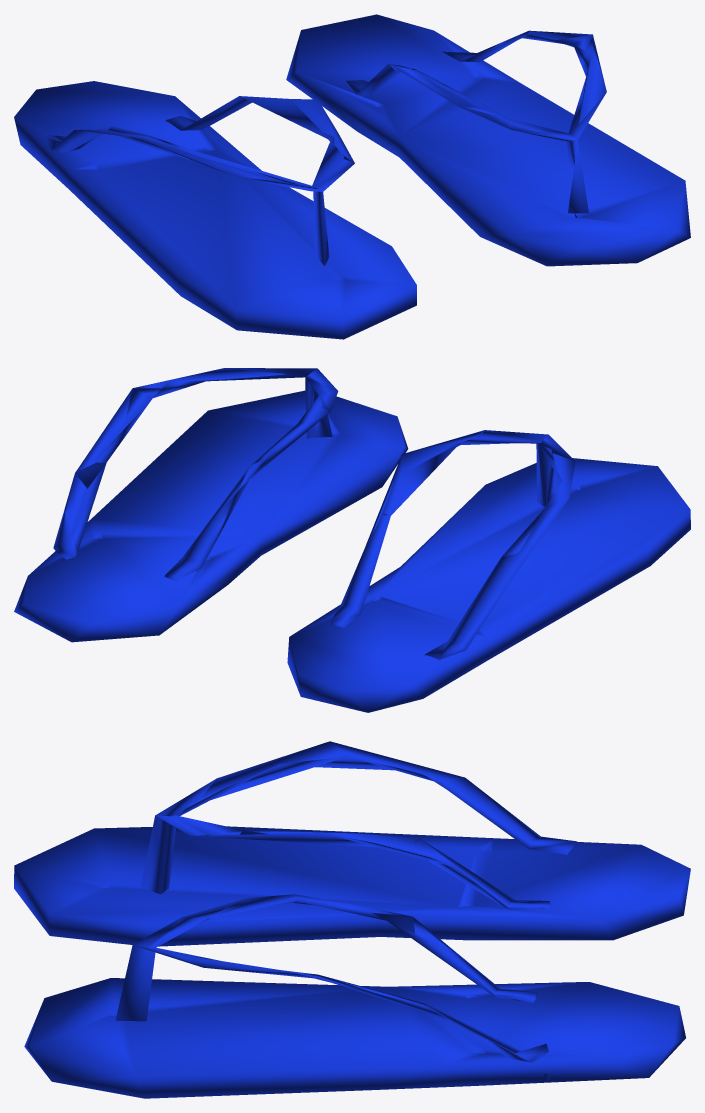
File: Slipper v3.fbx
The picture shows the model from 3 angles, top to bottom: view 1: azimuth 30°, elevation 25°; view 2: azimuth 150°, elevation 25°; view 3: azimuth 270°, elevation 25°; orthographic projection. The views are drawn at different scales.
Parts seen in each view (by area): view 1: Default_Chancletas_OBJ_Default; view 2: Default_Chancletas_OBJ_Default; view 3: Default_Chancletas_OBJ_Default.
Part boxes in pixels (x1,y1,x2,y2): Default_Chancletas_OBJ_Default: (14, 14, 690, 339); Default_Chancletas_OBJ_Default: (14, 368, 690, 712); Default_Chancletas_OBJ_Default: (14, 741, 690, 1098).
Size of the model in its own units: 79.45 by 17.28 by 90.16.
